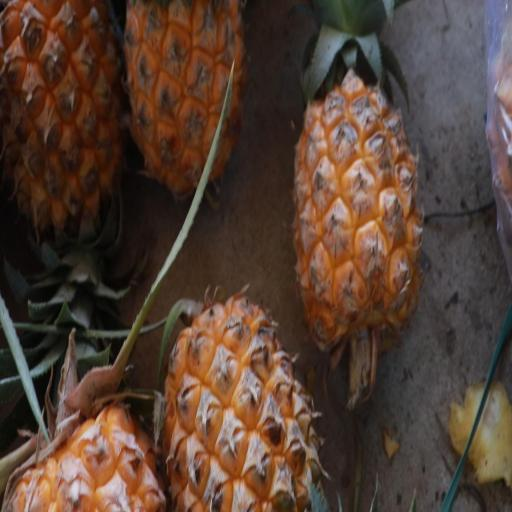Pineapple - v8 v1: (291, 58, 429, 362), (160, 274, 331, 512), (0, 2, 130, 256), (4, 343, 170, 512), (121, 2, 249, 218)
